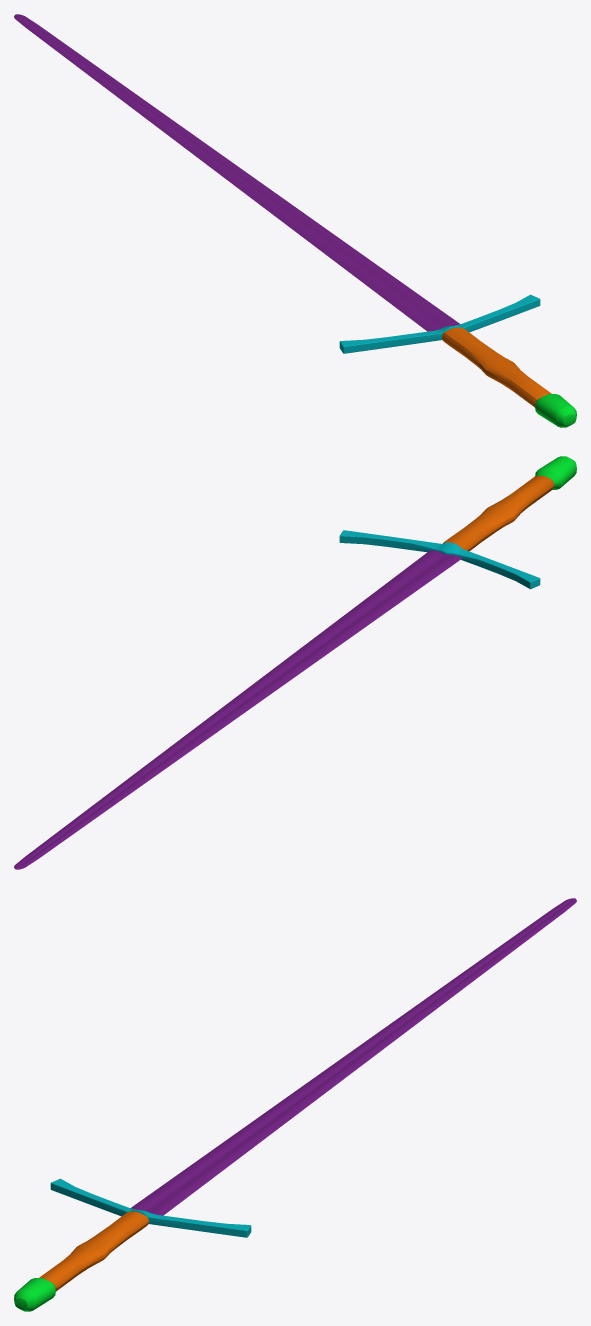
The model's file is Longsword.fbx.
3 renders of one model, top to bottom at view 1: azimuth 30°, elevation 25°; view 2: azimuth 150°, elevation 25°; view 3: azimuth 330°, elevation 25°, orthographic.
Parts seen in each view (by area): view 1: Longsword_pommel_lowpoly; view 2: Longsword_pommel_lowpoly; view 3: Longsword_pommel_lowpoly.
Part boxes in pixels (x1,y1,x2,y2): Longsword_pommel_lowpoly: (14, 14, 576, 427); Longsword_pommel_lowpoly: (14, 456, 576, 869); Longsword_pommel_lowpoly: (14, 898, 576, 1311).
Bounding box in the file's own units: 28.73 × 2.93 × 140.
